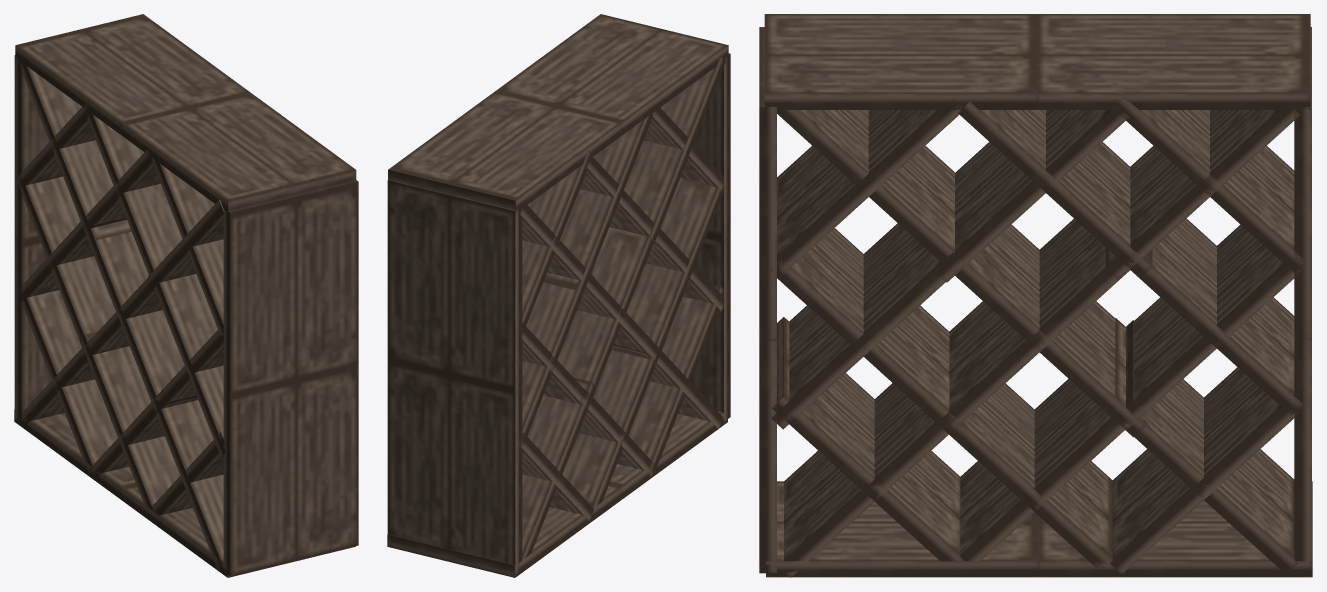
File: wineCellar.fbx
3 views of the same model, side by side, from view 1: azimuth 30°, elevation 25°; view 2: azimuth 150°, elevation 25°; view 3: azimuth 270°, elevation 25° (orthographic). The views are drawn at different scales.
Parts seen in each view (by area): view 1: pCube55; view 2: pCube55; view 3: pCube55.
Boxes of the visible parts, x1,y1,x2,y2 form: pCube55: (14,14,358,577); pCube55: (387,14,730,577); pCube55: (759,14,1312,577).
Bounding box in the file's own units: 329 × 920 × 954.
